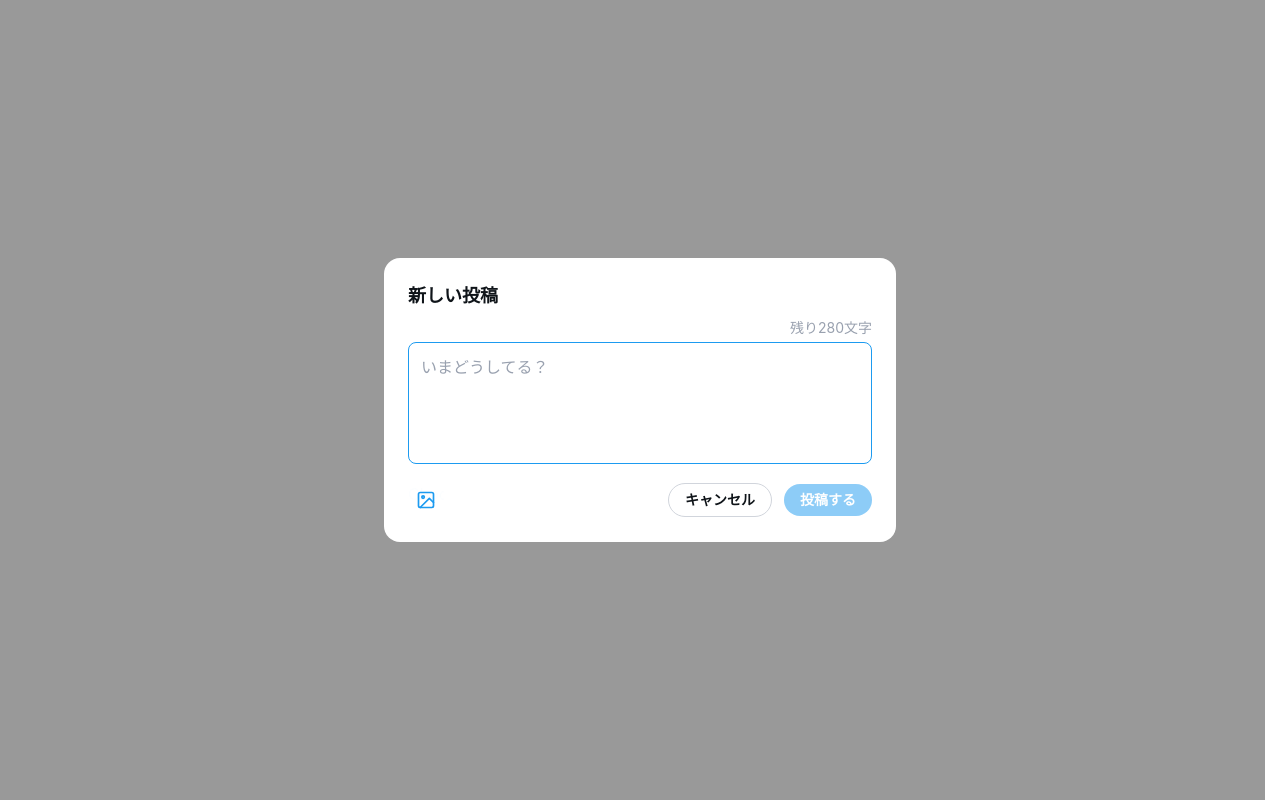
Test case: PostForm › 内容入力後に投稿ボタンが有効になる
The image size is (1280, 800).
Type "こんにちは" into the text box with placeholder "いまどうしてる？" at (640, 403), box x1=408 y1=342 x2=872 y2=464
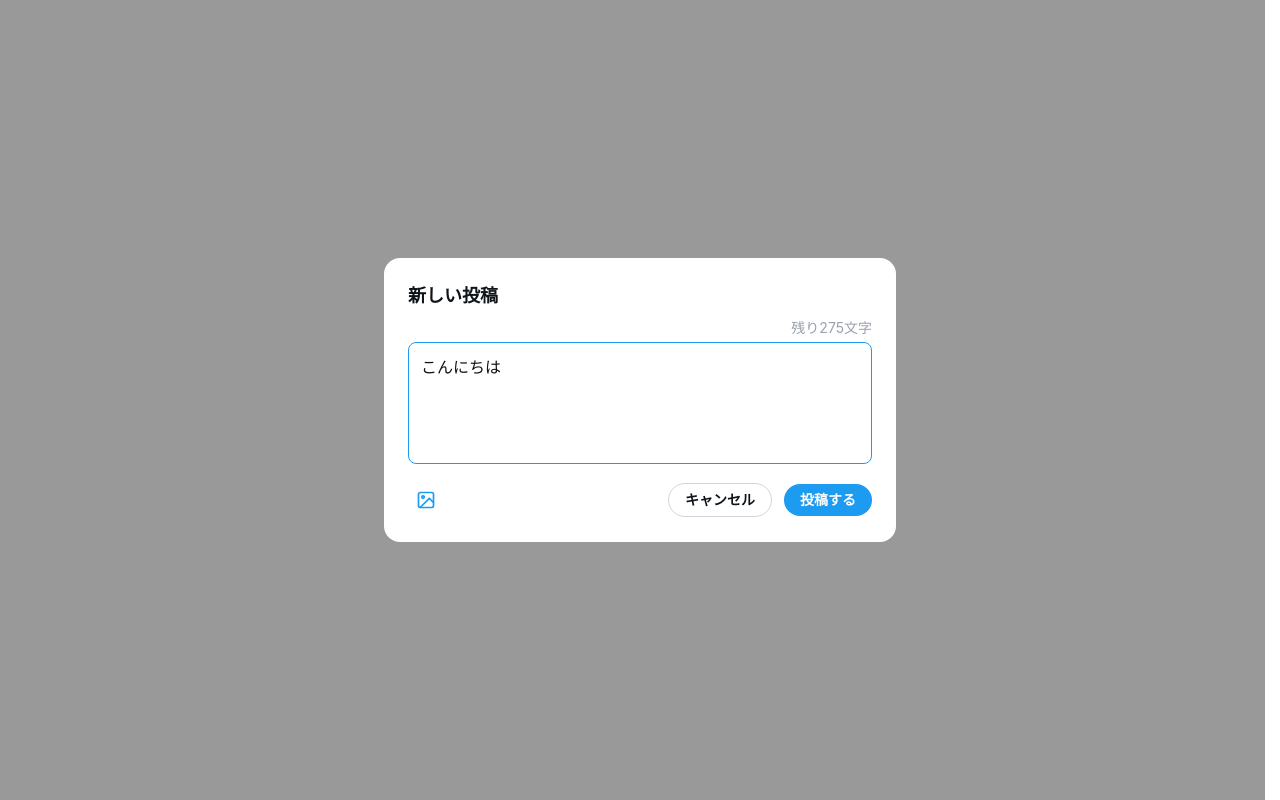
Expected: the button "投稿する" is enabled, x1=784 y1=484 x2=872 y2=516
